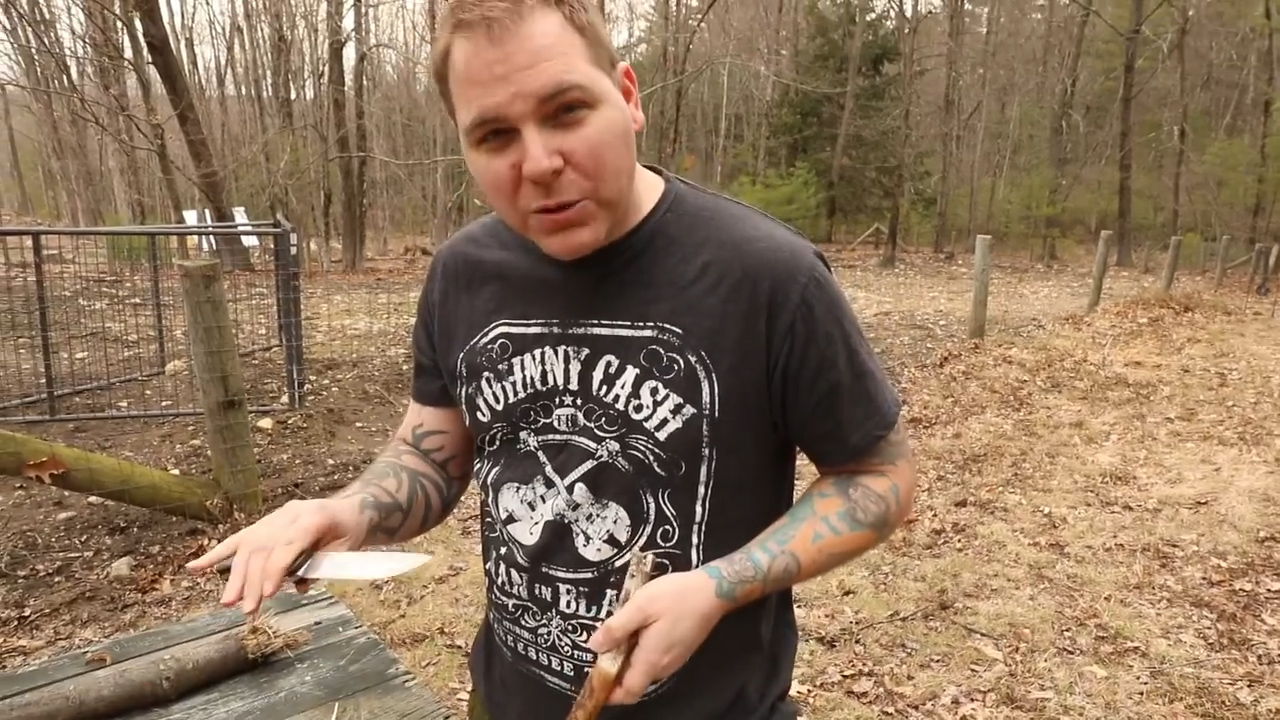knife: (182, 527, 465, 611)
